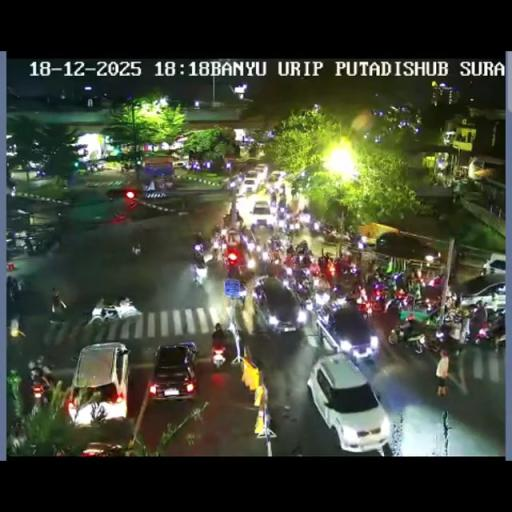Car: (306, 354, 390, 452), (66, 342, 130, 428), (320, 303, 378, 361), (252, 276, 306, 334), (149, 342, 198, 401), (454, 272, 506, 307), (78, 441, 126, 456), (248, 199, 274, 226), (486, 253, 506, 277), (106, 187, 138, 201), (242, 178, 259, 194), (253, 164, 268, 180), (269, 170, 284, 182), (172, 158, 190, 168)
Motorcycle: (388, 318, 429, 352), (437, 350, 465, 396), (430, 324, 464, 357), (477, 314, 505, 350), (384, 286, 414, 314), (354, 288, 382, 317), (226, 253, 251, 285), (323, 286, 351, 314), (7, 418, 29, 453), (30, 370, 50, 407), (87, 298, 112, 326), (113, 296, 141, 321), (311, 218, 340, 239), (211, 330, 227, 367), (7, 316, 25, 346), (190, 258, 209, 286), (267, 234, 287, 260), (49, 298, 67, 326), (317, 251, 335, 278), (442, 304, 464, 326), (312, 273, 330, 299), (6, 235, 26, 258), (190, 233, 208, 258), (347, 231, 366, 253), (366, 272, 384, 294), (294, 240, 312, 261), (392, 270, 408, 292), (340, 260, 359, 278), (256, 253, 271, 275), (208, 239, 222, 262), (286, 215, 302, 235), (423, 251, 442, 267), (426, 273, 444, 289), (253, 282, 266, 303), (24, 235, 37, 255), (307, 258, 321, 276), (276, 202, 289, 220), (226, 176, 241, 191), (283, 252, 296, 268), (212, 224, 222, 243), (222, 210, 232, 228), (131, 242, 142, 256), (246, 238, 256, 252), (120, 163, 132, 174), (15, 277, 25, 290), (278, 182, 286, 198), (250, 222, 259, 236)
